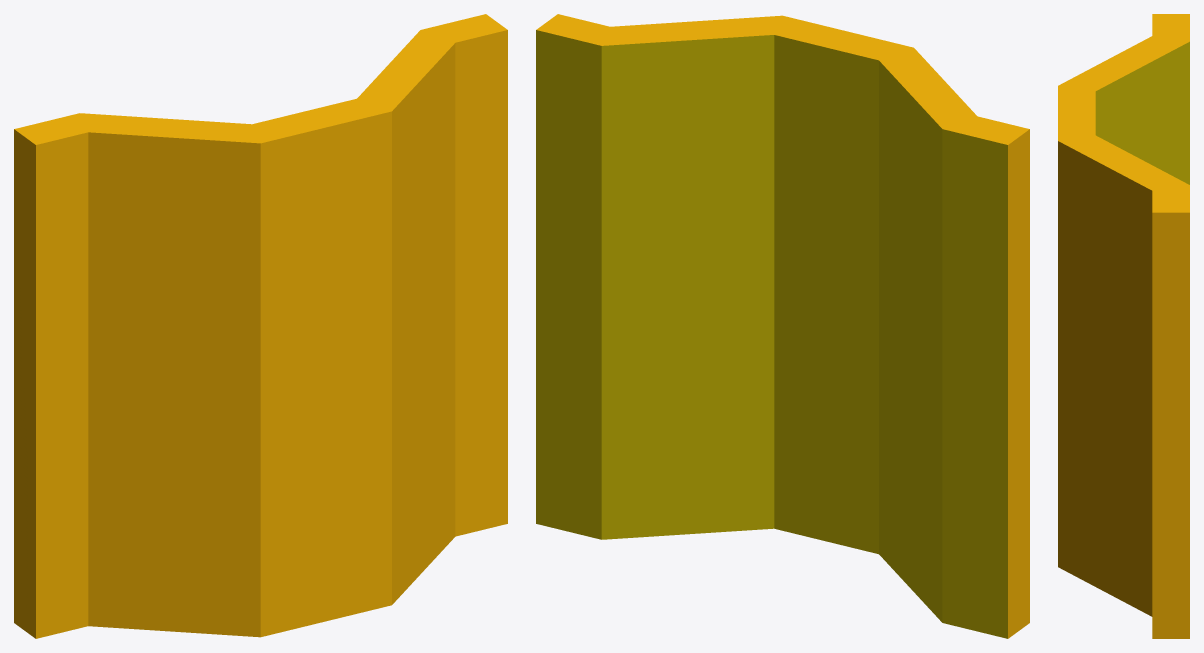
Rendered from sp_corrugated_panel.dae.
3 views of the same model, side by side, from view 1: azimuth 30°, elevation 25°; view 2: azimuth 150°, elevation 25°; view 3: azimuth 270°, elevation 25° (orthographic). The views are drawn at different scales.
Visible parts, largest first — view 1: corrugated_panel; view 2: corrugated_panel; view 3: corrugated_panel.
Boxes of the visible parts, x1,y1,x2,y2 form: corrugated_panel: (14,14,507,638); corrugated_panel: (536,14,1029,638); corrugated_panel: (1058,14,1189,638).
Bounding box in the file's own units: 0.25 × 0.07 × 0.25.
